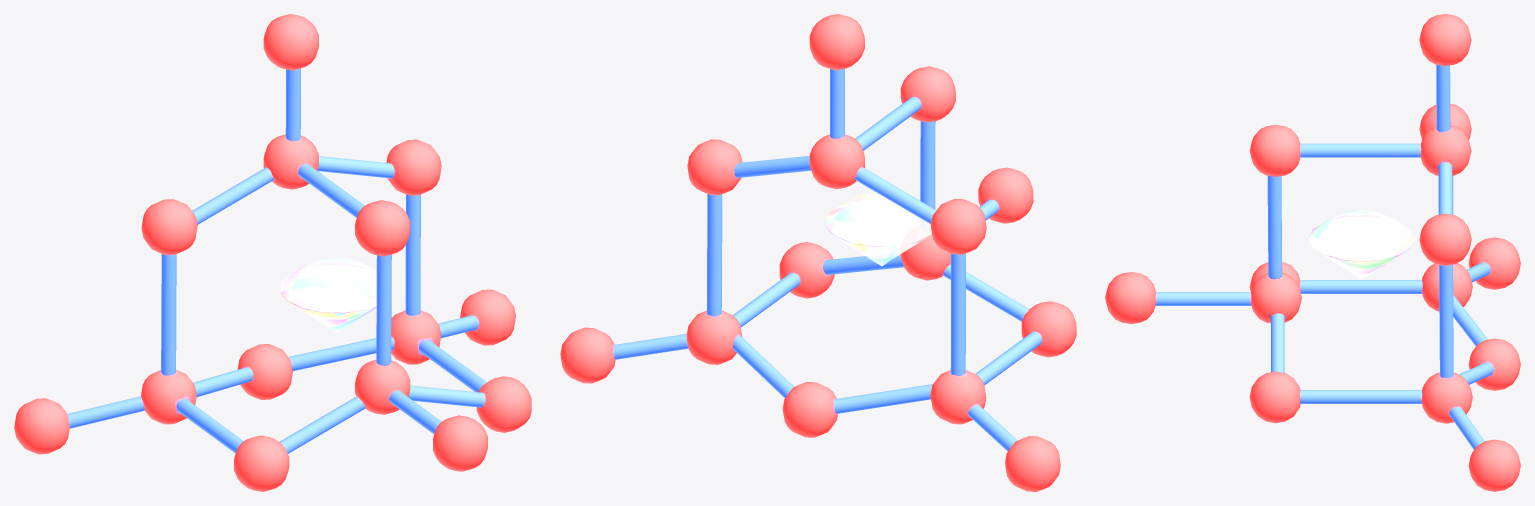
The model's file is diamond_structure.glb.
3 renders of one model, left to right at view 1: azimuth 30°, elevation 25°; view 2: azimuth 150°, elevation 25°; view 3: azimuth 270°, elevation 25°, orthographic. The views are drawn at different scales.
Visible parts, largest first — view 1: diamond, ThinRing1; view 2: diamond, ThinRing1; view 3: diamond, ThinRing1.
Part boxes in pixels (bbox=[...]): diamond: bbox=[14, 14, 531, 491]; ThinRing1: bbox=[280, 258, 393, 332]; diamond: bbox=[560, 14, 1076, 491]; ThinRing1: bbox=[825, 192, 931, 266]; diamond: bbox=[1105, 14, 1520, 491]; ThinRing1: bbox=[1308, 210, 1414, 279].
Size of the model in its own units: 4.18 by 3.23 by 3.28.
2 materials, 1 textured.
